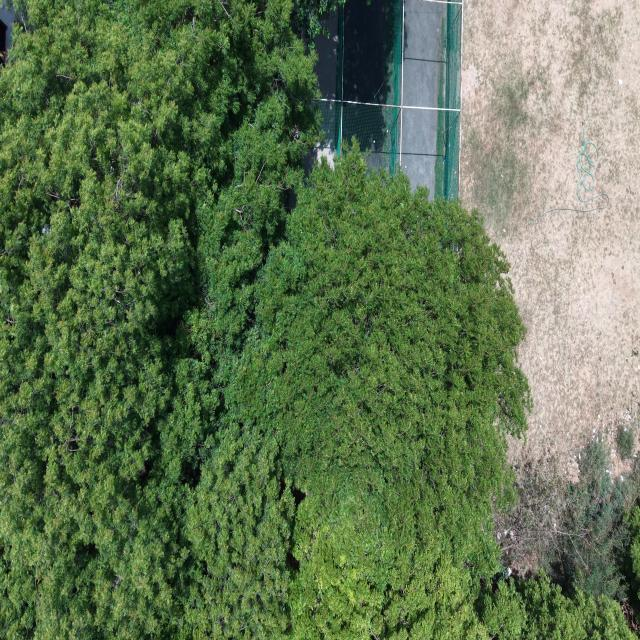DRY_AREA: (461, 0, 639, 475)
VEGETATION_TREE: (0, 0, 631, 639), (0, 0, 317, 638), (195, 152, 527, 638), (497, 440, 639, 613), (498, 441, 637, 599), (557, 442, 637, 599), (480, 573, 637, 639), (495, 448, 568, 576), (293, 0, 344, 42), (619, 504, 639, 611), (616, 424, 635, 460)
